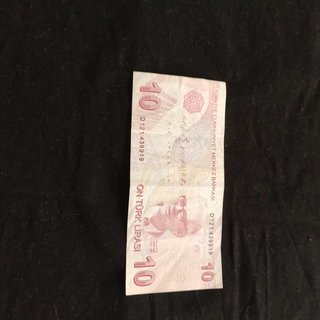10TLBack: (124, 69, 227, 296)
